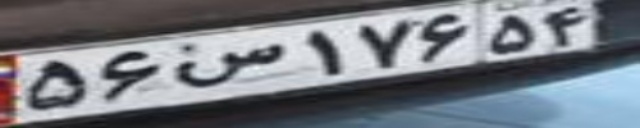1: (306, 30, 343, 75)
4: (540, 6, 587, 47)
5: (22, 60, 85, 109), (491, 15, 534, 55)
6: (97, 51, 162, 102), (417, 14, 468, 63)
7: (353, 20, 410, 68)
sin: (173, 43, 284, 87)
